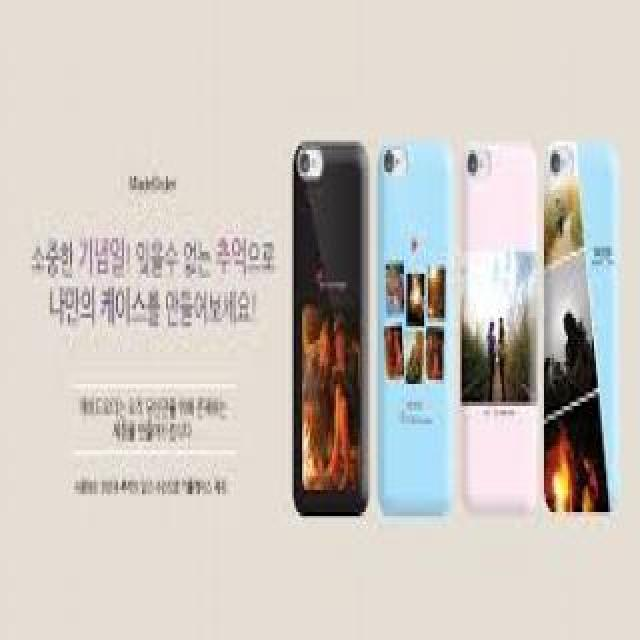smart phone: (282, 128, 375, 532), (374, 133, 464, 547), (545, 132, 630, 530), (454, 134, 538, 524)
